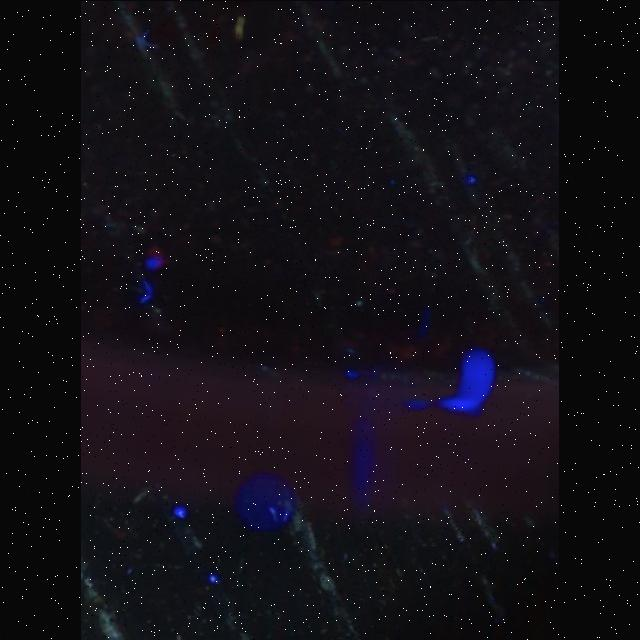microbeads: (232, 14, 246, 36)
